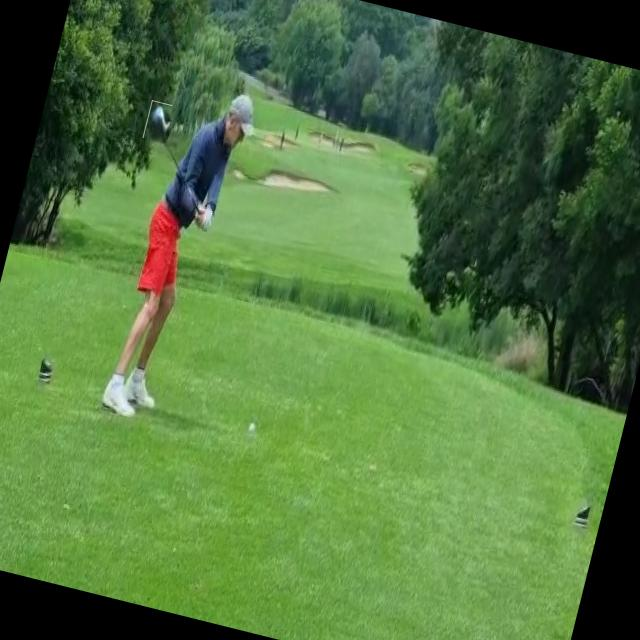club head: (142, 100, 172, 142)
